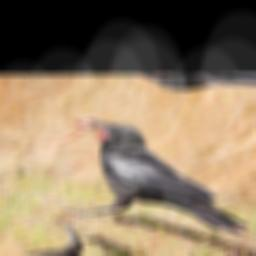Crow: (0, 106, 256, 256)
